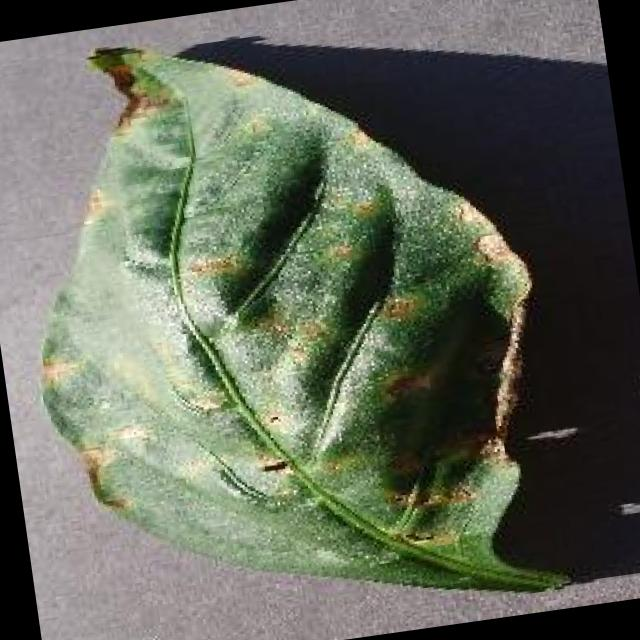Chilli_Bacterial_Spot: (0, 0, 579, 640), (381, 470, 480, 520), (76, 438, 132, 520), (82, 37, 151, 95), (374, 362, 438, 410), (182, 244, 246, 286), (34, 349, 84, 392), (470, 228, 514, 271), (374, 289, 418, 327), (250, 448, 291, 481), (346, 191, 382, 225)
